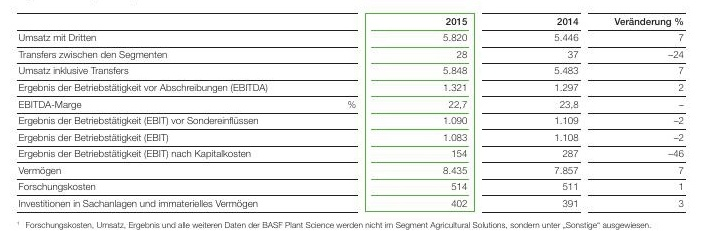table: (0, 0, 706, 231)
